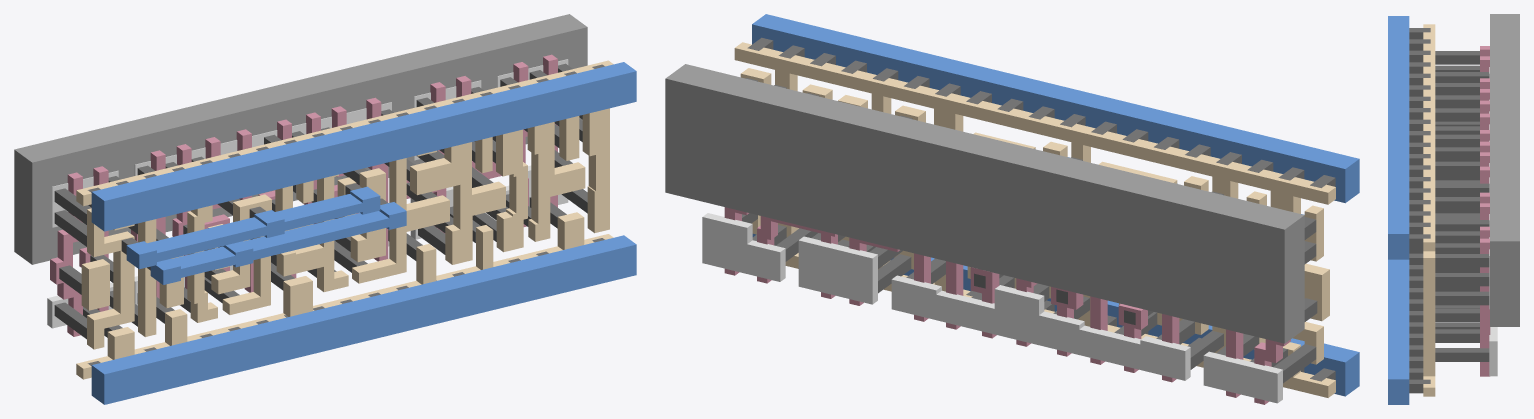
The model's file is sky130_fd_sc_hd__dfxbp_1.gds.gltf.
3 renders of one model, left to right at view 1: azimuth 30°, elevation 25°; view 2: azimuth 150°, elevation 25°; view 3: azimuth 270°, elevation 25°, orthographic. The views are drawn at different scales.
Parts seen in each view (by area): view 1: sky130_fd_sc_hd__dfxbp_1_met1, sky130_fd_sc_hd__dfxbp_1_li1, sky130_fd_sc_hd__dfxbp_1_nwell, sky130_fd_sc_hd__dfxbp_1_licon, sky130_fd_sc_hd__dfxbp_1_poly, sky130_fd_sc_hd__dfxbp_1_diff, sky130_fd_sc_hd__dfxbp_1_mcon; view 2: sky130_fd_sc_hd__dfxbp_1_nwell, sky130_fd_sc_hd__dfxbp_1_diff, sky130_fd_sc_hd__dfxbp_1_li1, sky130_fd_sc_hd__dfxbp_1_met1, sky130_fd_sc_hd__dfxbp_1_poly, sky130_fd_sc_hd__dfxbp_1_licon, sky130_fd_sc_hd__dfxbp_1_mcon; view 3: sky130_fd_sc_hd__dfxbp_1_licon, sky130_fd_sc_hd__dfxbp_1_nwell, sky130_fd_sc_hd__dfxbp_1_met1, sky130_fd_sc_hd__dfxbp_1_mcon, sky130_fd_sc_hd__dfxbp_1_li1, sky130_fd_sc_hd__dfxbp_1_poly, sky130_fd_sc_hd__dfxbp_1_diff.
Part boxes in pixels (x1=…): sky130_fd_sc_hd__dfxbp_1_met1: x1=91, y1=62, x2=636, y2=404; sky130_fd_sc_hd__dfxbp_1_li1: x1=76, y1=60, x2=613, y2=379; sky130_fd_sc_hd__dfxbp_1_nwell: x1=14, y1=14, x2=587, y2=264; sky130_fd_sc_hd__dfxbp_1_licon: x1=54, y1=63, x2=587, y2=339; sky130_fd_sc_hd__dfxbp_1_poly: x1=50, y1=54, x2=557, y2=336; sky130_fd_sc_hd__dfxbp_1_diff: x1=47, y1=59, x2=568, y2=328; sky130_fd_sc_hd__dfxbp_1_mcon: x1=88, y1=64, x2=604, y2=365; sky130_fd_sc_hd__dfxbp_1_nwell: x1=665, y1=64, x2=1304, y2=343; sky130_fd_sc_hd__dfxbp_1_diff: x1=702, y1=213, x2=1282, y2=403; sky130_fd_sc_hd__dfxbp_1_li1: x1=734, y1=42, x2=1335, y2=397; sky130_fd_sc_hd__dfxbp_1_met1: x1=752, y1=14, x2=1359, y2=396; sky130_fd_sc_hd__dfxbp_1_poly: x1=724, y1=207, x2=1290, y2=404; sky130_fd_sc_hd__dfxbp_1_licon: x1=742, y1=78, x2=1317, y2=383; sky130_fd_sc_hd__dfxbp_1_mcon: x1=747, y1=37, x2=1335, y2=381; sky130_fd_sc_hd__dfxbp_1_licon: x1=1435, y1=51, x2=1489, y2=361; sky130_fd_sc_hd__dfxbp_1_nwell: x1=1490, y1=14, x2=1519, y2=326; sky130_fd_sc_hd__dfxbp_1_met1: x1=1388, y1=16, x2=1409, y2=404; sky130_fd_sc_hd__dfxbp_1_mcon: x1=1409, y1=28, x2=1430, y2=393; sky130_fd_sc_hd__dfxbp_1_li1: x1=1423, y1=24, x2=1435, y2=396; sky130_fd_sc_hd__dfxbp_1_poly: x1=1480, y1=46, x2=1490, y2=376; sky130_fd_sc_hd__dfxbp_1_diff: x1=1489, y1=67, x2=1497, y2=376.
Bounding box in the file's own units: 9.12 × 3.2 × 2.24.
